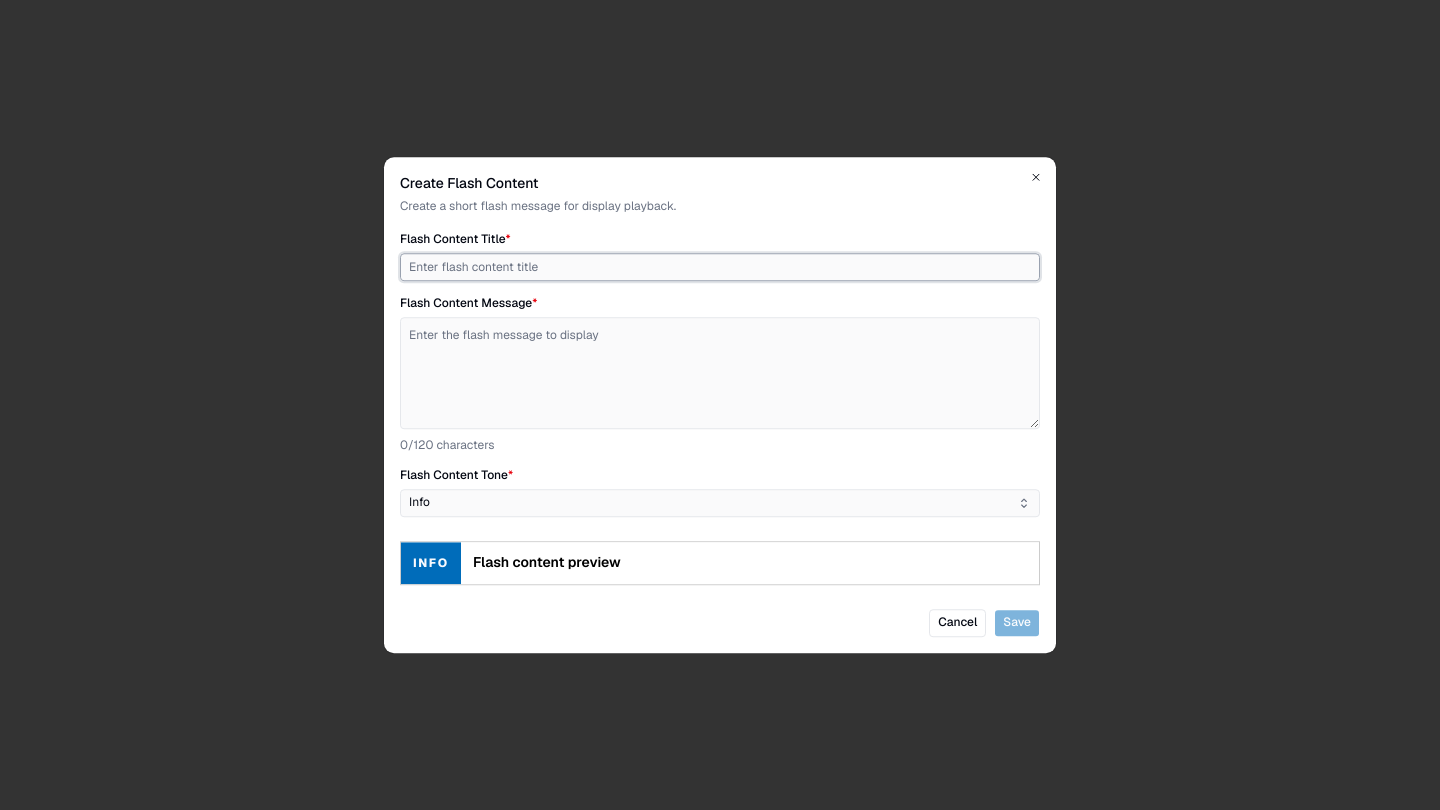
Test: CreateContentDialog › debounces flash preview updates by 500ms while keeping character count immediate
This screenshot has width=1440, height=810.
Type "HELLO WORLD" into the text box labelled "Flash Content Message" at {"x": 720, "y": 373}, box [400, 317, 1040, 429]
Wait 500 ms
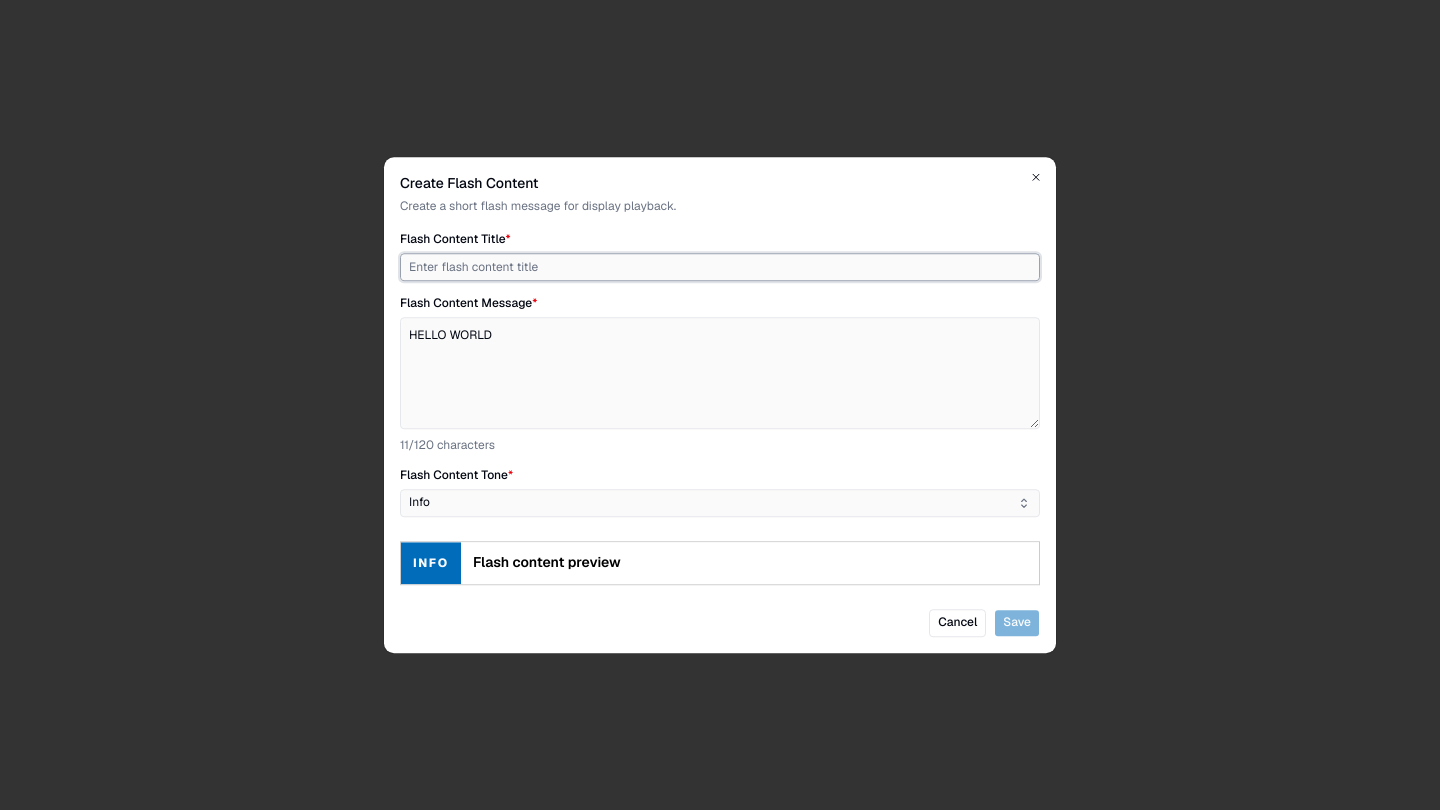
Expected: the text "HELLO WORLD" is shown, [473, 553, 621, 571]
Now the text "11/120 characters" is shown, box [400, 437, 495, 453]
